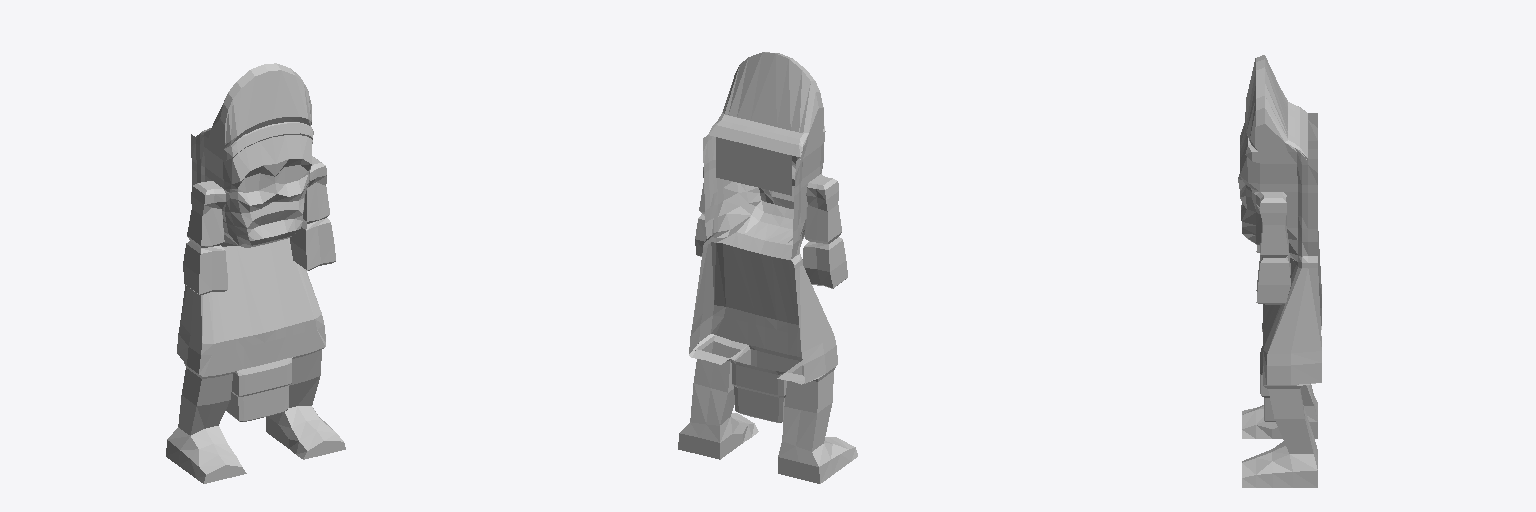
The model's file is relic_statue.obj.
The picture shows the model from 3 angles: view 1: azimuth 30°, elevation 25°; view 2: azimuth 150°, elevation 25°; view 3: azimuth 270°, elevation 25°; orthographic projection.
Visible parts, largest first — view 1: relic_statue; view 2: relic_statue; view 3: relic_statue.
Part boxes in pixels (x1,y1,x2,y2): relic_statue: (166, 63, 345, 483); relic_statue: (678, 52, 857, 483); relic_statue: (1238, 55, 1321, 487).
Size of the model in its own units: 28.04 by 73.94 by 14.37.